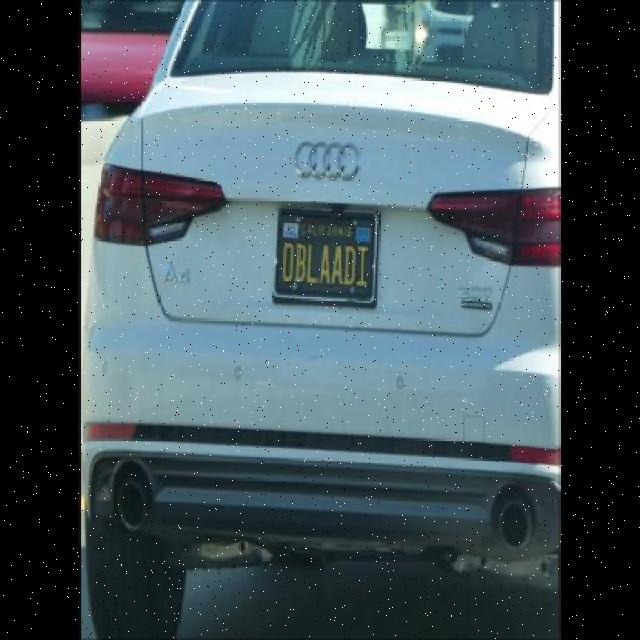licenseplate: (275, 206, 377, 305)
